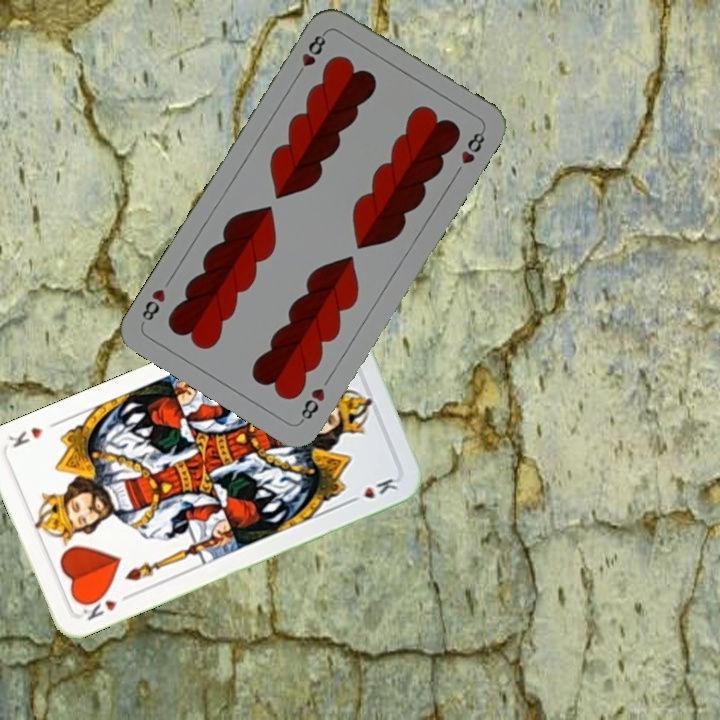H8: (292, 28, 329, 81), (296, 383, 328, 426)
HK: (75, 589, 134, 623)
